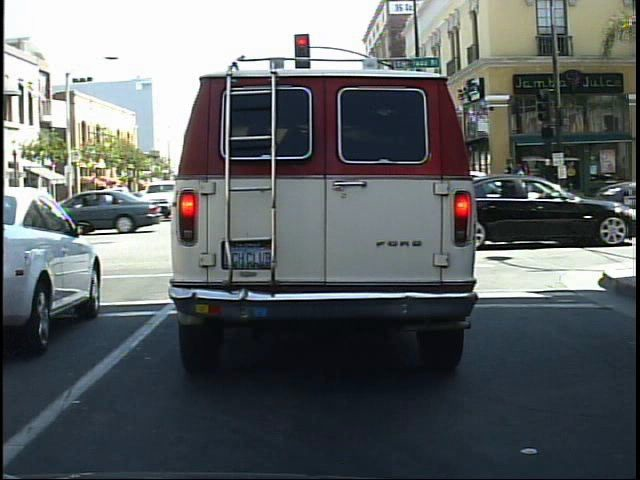person: (536, 154, 564, 215), (516, 157, 541, 214), (501, 154, 521, 212), (512, 161, 531, 213)
